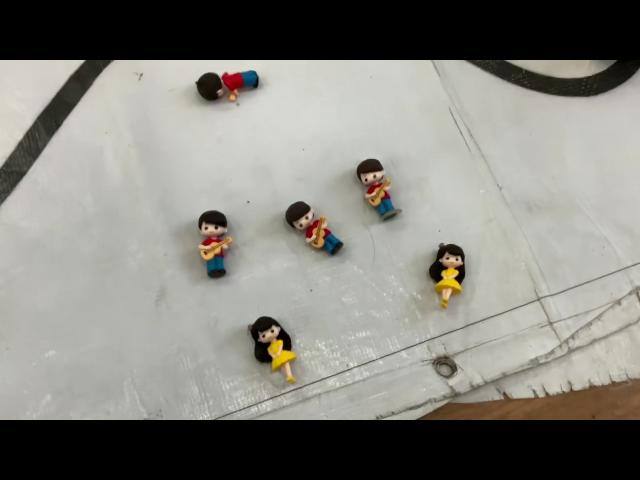man: (282, 197, 346, 259), (353, 155, 405, 225), (191, 206, 237, 282), (192, 68, 264, 106)
woman: (245, 312, 302, 388), (423, 237, 471, 314)
